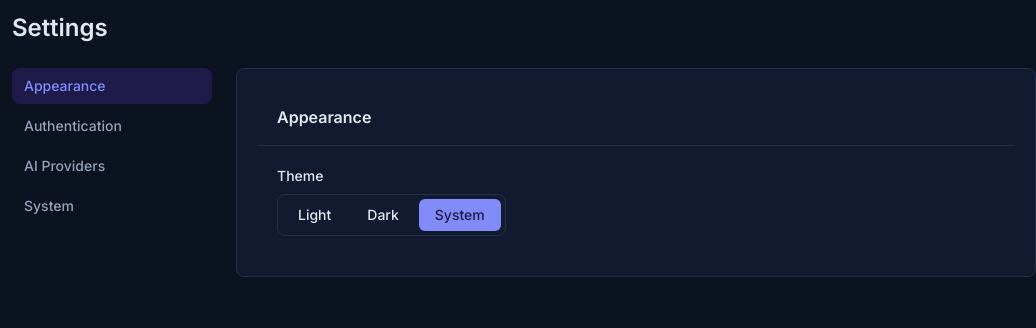
Test case: Settings page › APP_INFO constants are rendered in System section
The width and height of the screenshot is (1036, 328).
Expected: the button "Appearance" is shown, [12, 68, 212, 104]
Click the button "System".
click(112, 206)  # box [12, 188, 212, 224]
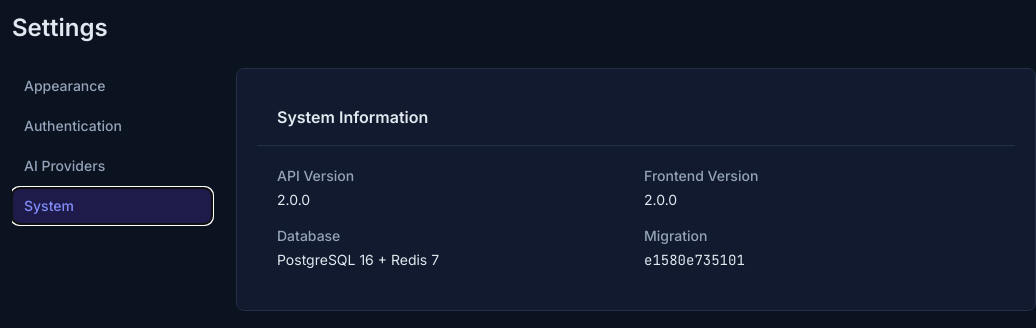
Now the text "2.0.0" is shown 2 times, box [277, 191, 310, 208]; [644, 191, 677, 208]
Now the text "e1580e735101" is shown, box [644, 251, 745, 269]
Now the text "API Version" is shown, box [277, 167, 354, 184]
